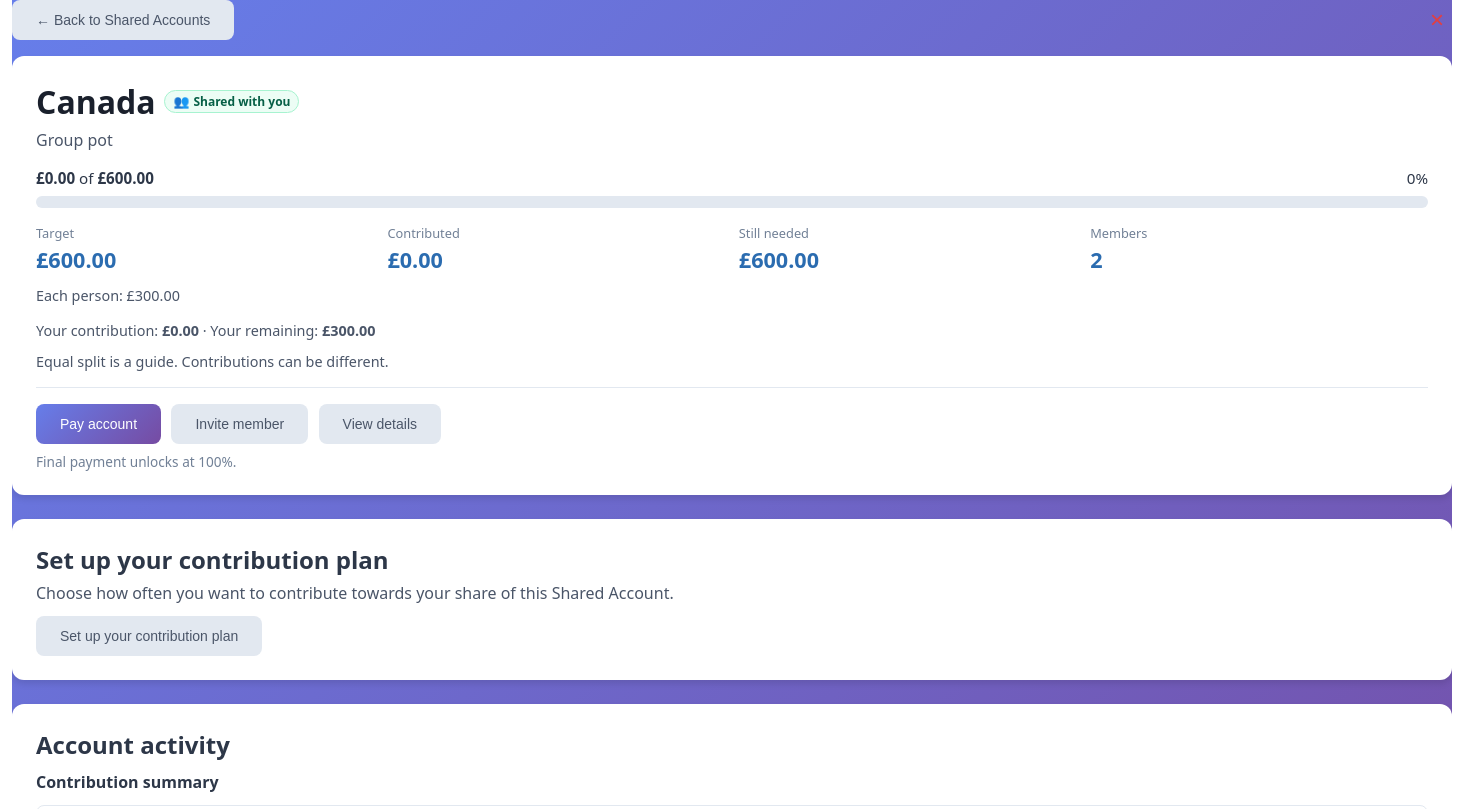
it: SharedAccountDetail invited member contribution plan › lets a not-now member open setup later from Shared Account detail
Click the button "Set up your contribution plan": [149, 636] box [36,616,262,656]
(page scrolled)
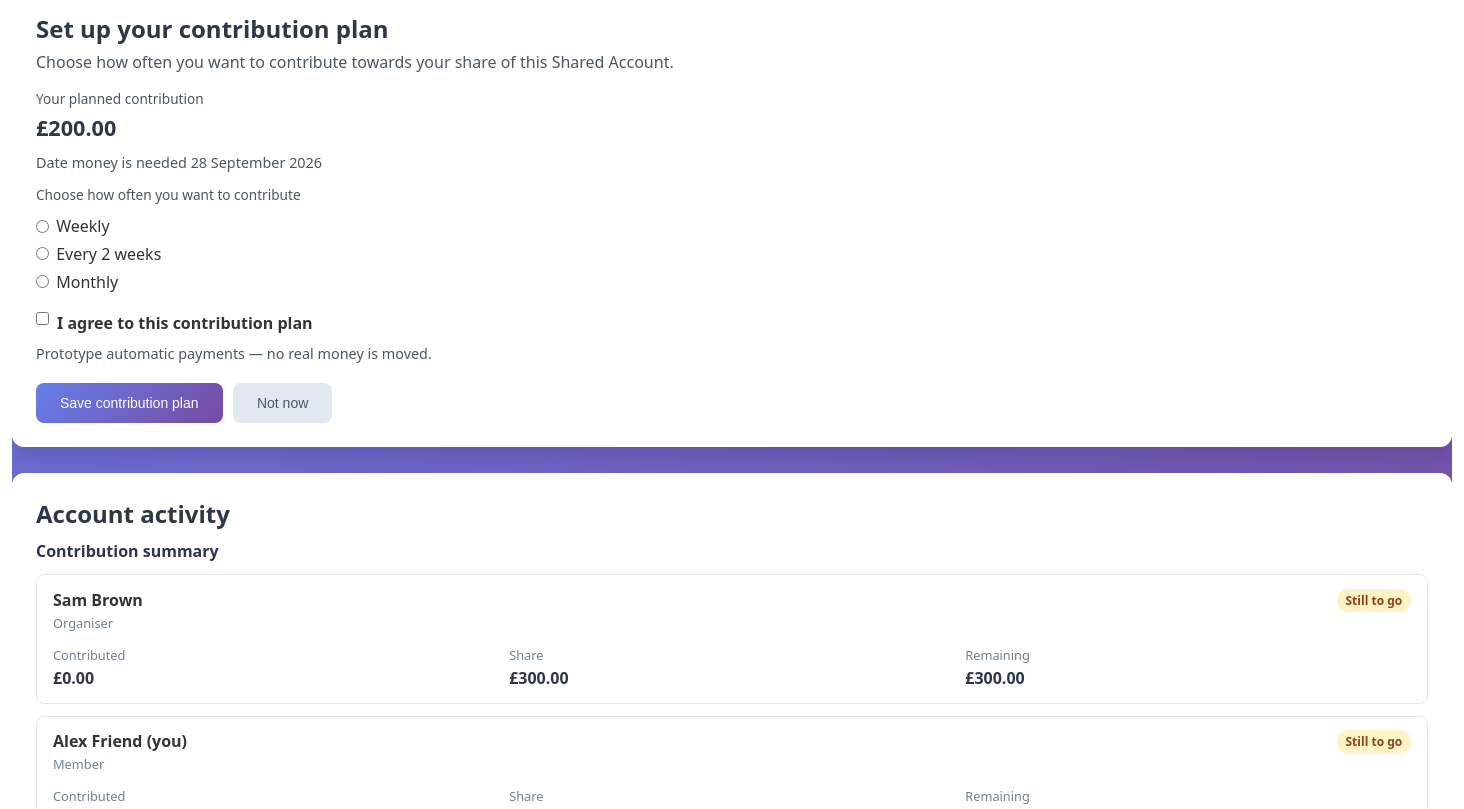
Expected: the radio button labelled "Weekly" is shown, [36,220,49,233]
Expected: the button "Not now" is shown, [233,383,332,423]
